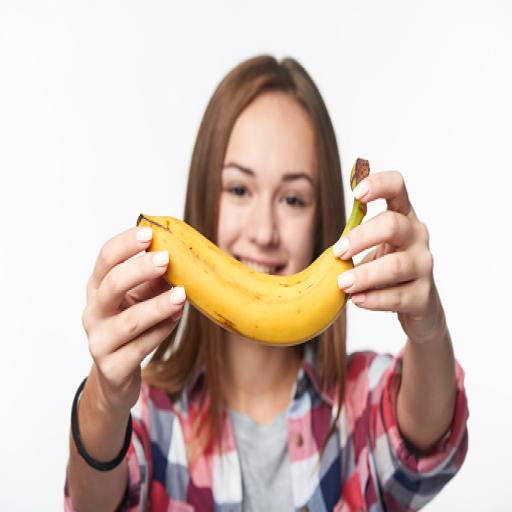banana: (138, 215, 353, 345)
